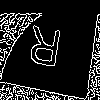R: (25, 25, 64, 78)
